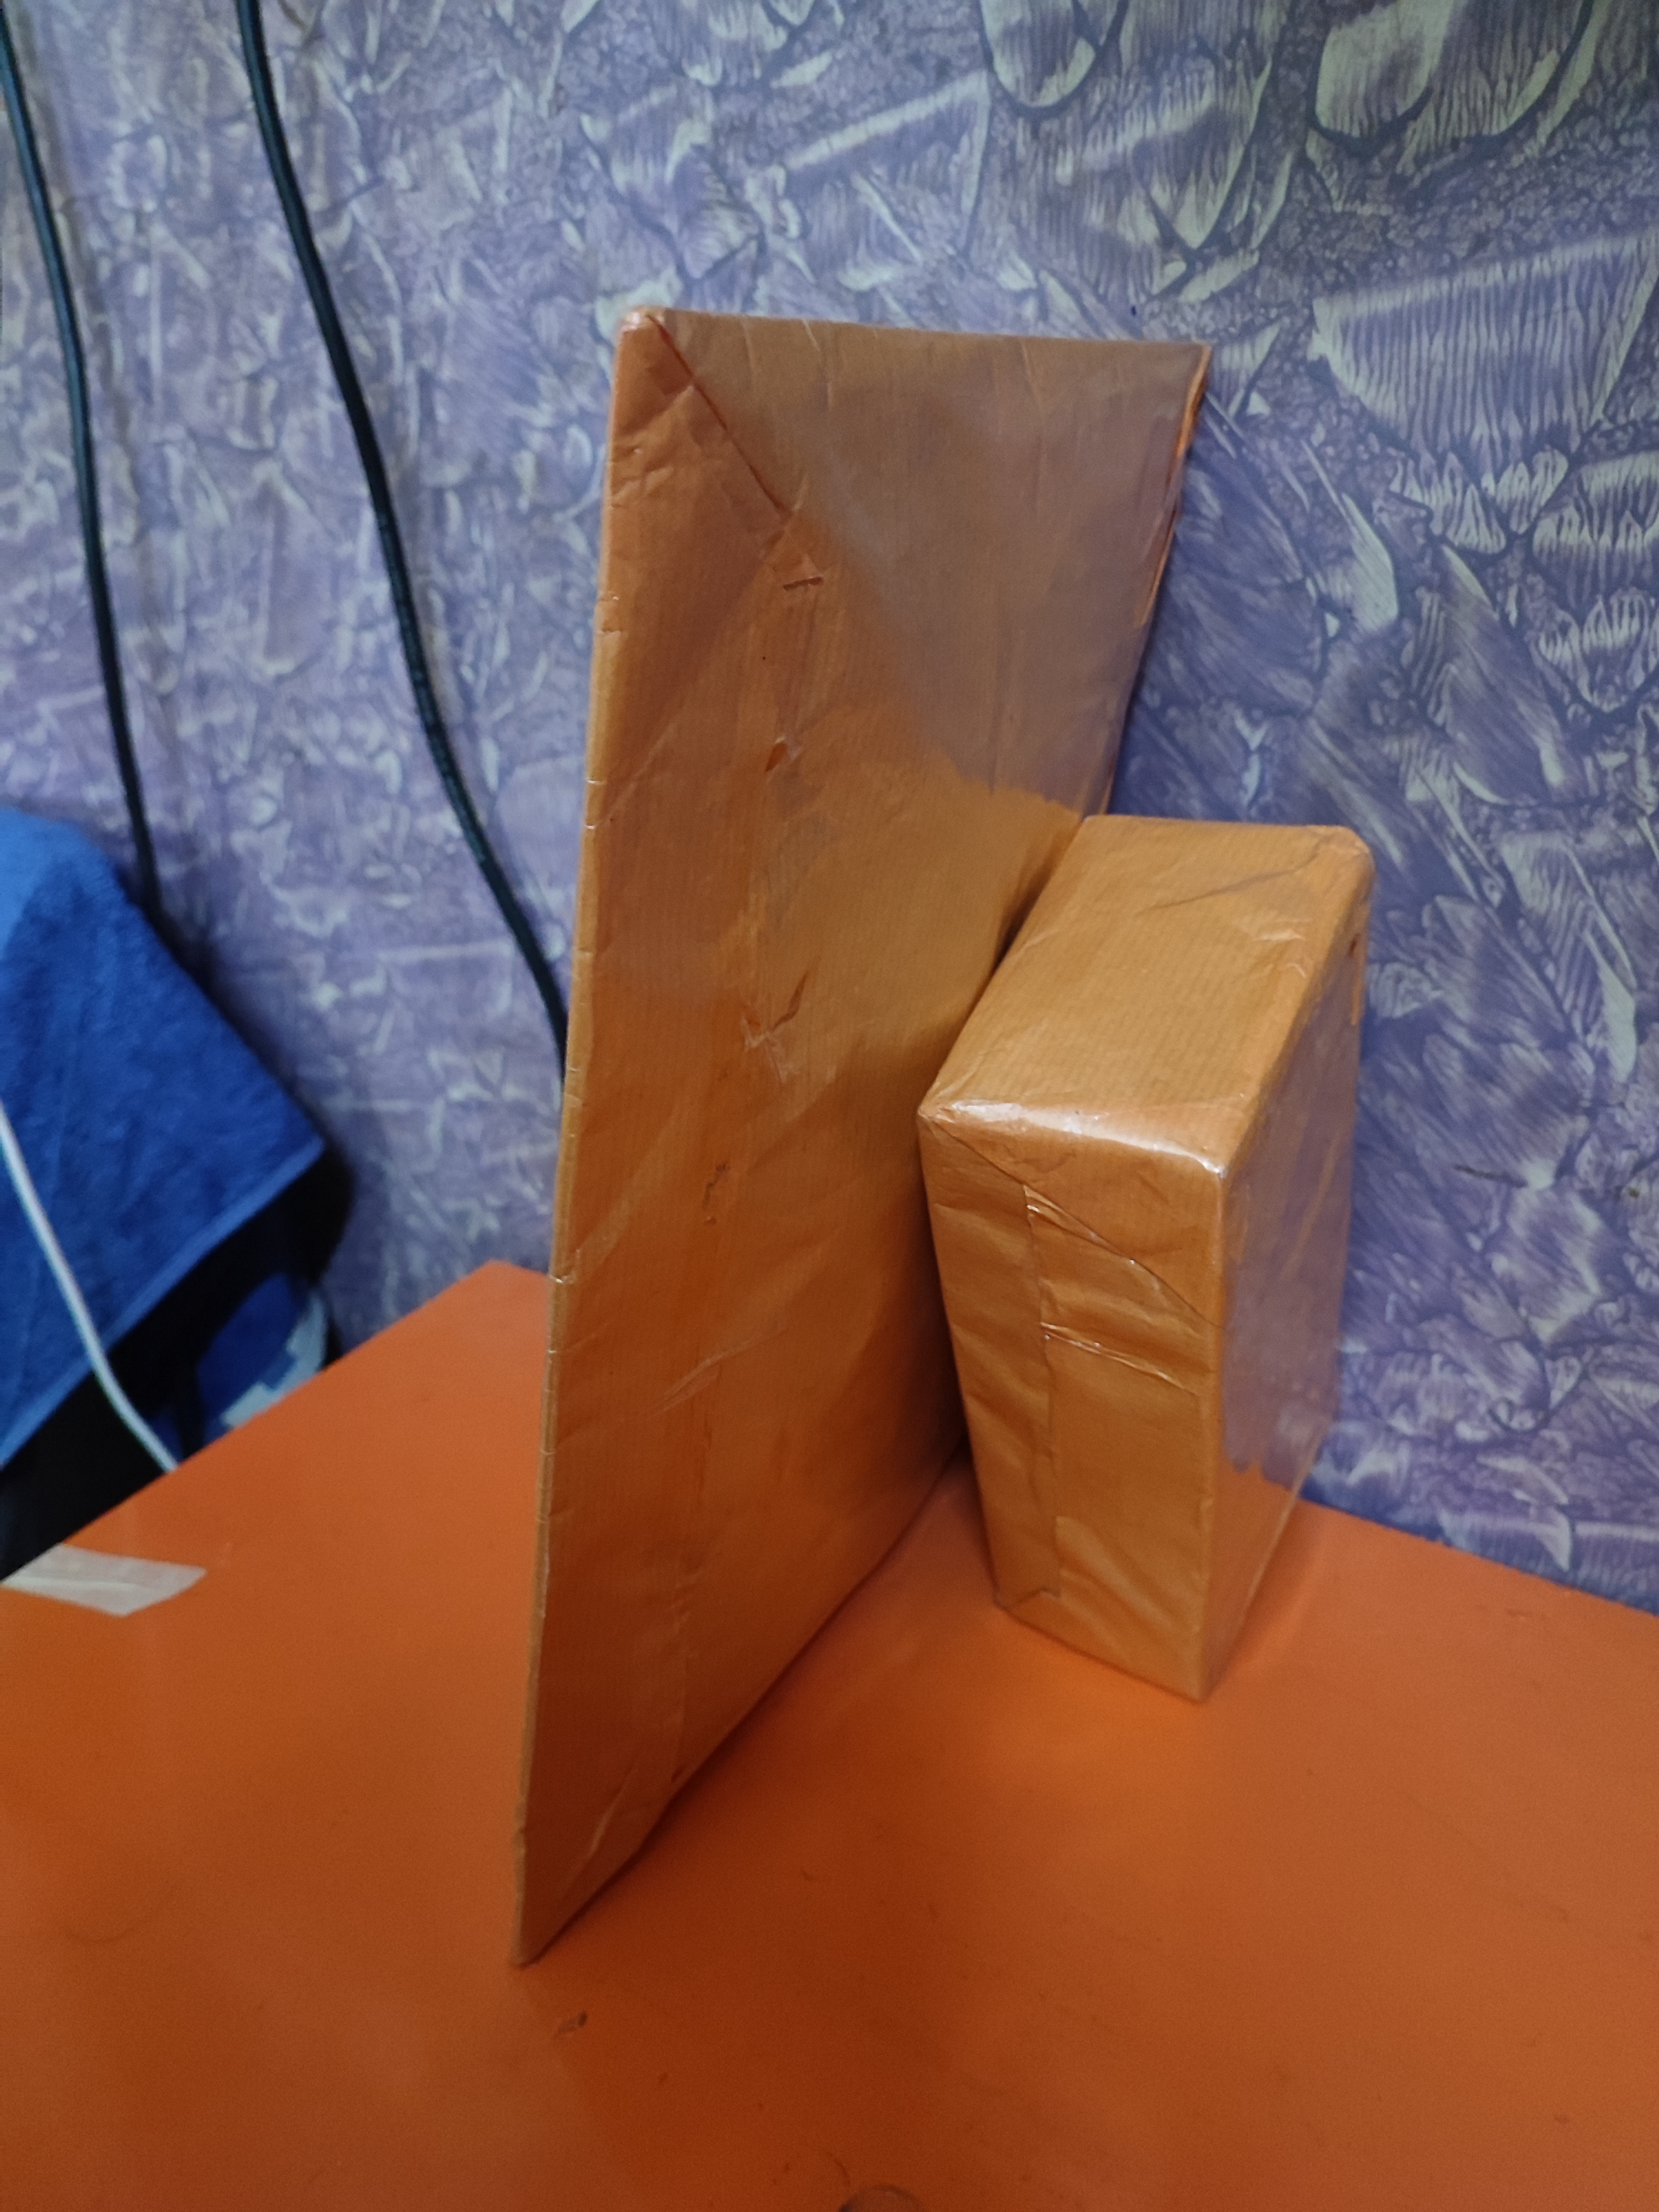Box: (450, 225, 1352, 1892)
